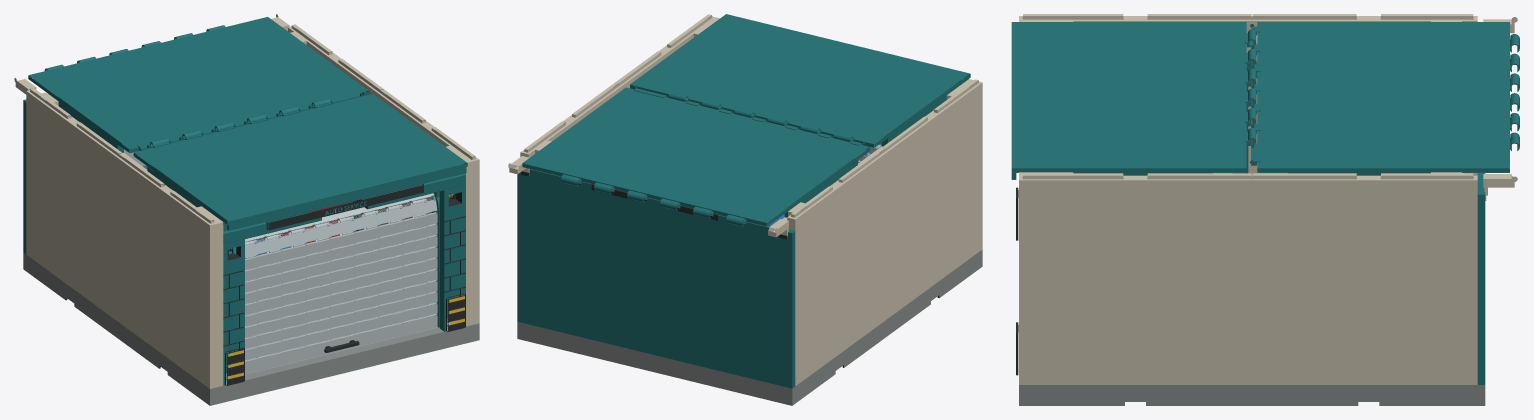
File: modular-garage.glb
3 renders of one model, left to right at view 1: azimuth 30°, elevation 25°; view 2: azimuth 150°, elevation 25°; view 3: azimuth 270°, elevation 25°, orthographic. The views are drawn at different scales.
Visible parts, largest first — view 1: Garage_roof_front, Garage_roof_rear, Module_1_Left_side_1, Module_1_Left_side_2, Floor_1_1, Garage_door_Right_jamb, Module_1_Right_side_1, Garage_door_Left_jamb, Garage_door_removable_header, PIP_Door_Slat_11, PIP_Door_Slat_01, PIP_Door_Slat_10 (+12 smaller); view 2: Rear_wall_1, Garage_roof_rear, Garage_roof_front, Module_1_Left_side_1, Module_1_Left_side_2, Floor_1_2, Floor_1_1, Module_1_Right_side_1, Module_1_Right_side_2; view 3: Module_1_Right_side_1, Module_1_Right_side_2, Garage_roof_rear, Garage_roof_front, Floor_1_2, Floor_1_1, Rear_wall_1, Module_1_Left_side_1, Module_1_Left_side_2.
Boxes of the visible parts, x1,y1,x2,y2 form: Garage_roof_front: (133, 94, 467, 231); Garage_roof_rear: (28, 17, 369, 153); Module_1_Left_side_1: (116, 153, 223, 388); Module_1_Left_side_2: (26, 88, 137, 320); Floor_1_1: (116, 320, 479, 405); Garage_door_Right_jamb: (353, 185, 465, 331); Module_1_Right_side_1: (378, 89, 479, 326); Garage_door_Left_jamb: (223, 239, 244, 385); Garage_door_removable_header: (223, 174, 465, 252); PIP_Door_Slat_11: (245, 198, 437, 257); PIP_Door_Slat_01: (245, 314, 437, 374); PIP_Door_Slat_10: (245, 212, 437, 269); Rear_wall_1: (508, 156, 795, 388); Garage_roof_rear: (522, 85, 870, 226); Garage_roof_front: (630, 14, 970, 147); Module_1_Left_side_1: (866, 79, 982, 318); Module_1_Left_side_2: (782, 148, 887, 385); Floor_1_2: (517, 319, 887, 405); Floor_1_1: (887, 249, 982, 335); Module_1_Right_side_1: (615, 14, 719, 90); Module_1_Right_side_2: (520, 83, 620, 157); Module_1_Right_side_1: (1019, 172, 1251, 384); Module_1_Right_side_2: (1252, 172, 1477, 384); Garage_roof_rear: (1250, 22, 1519, 175); Garage_roof_front: (1011, 22, 1256, 179); Floor_1_2: (1252, 385, 1485, 405); Floor_1_1: (1019, 385, 1251, 405); Rear_wall_1: (1477, 17, 1517, 384); Module_1_Left_side_1: (1019, 14, 1251, 175); Module_1_Left_side_2: (1252, 14, 1477, 175).
Bounding box in the file's own units: 2 × 1.33 × 2.62.
